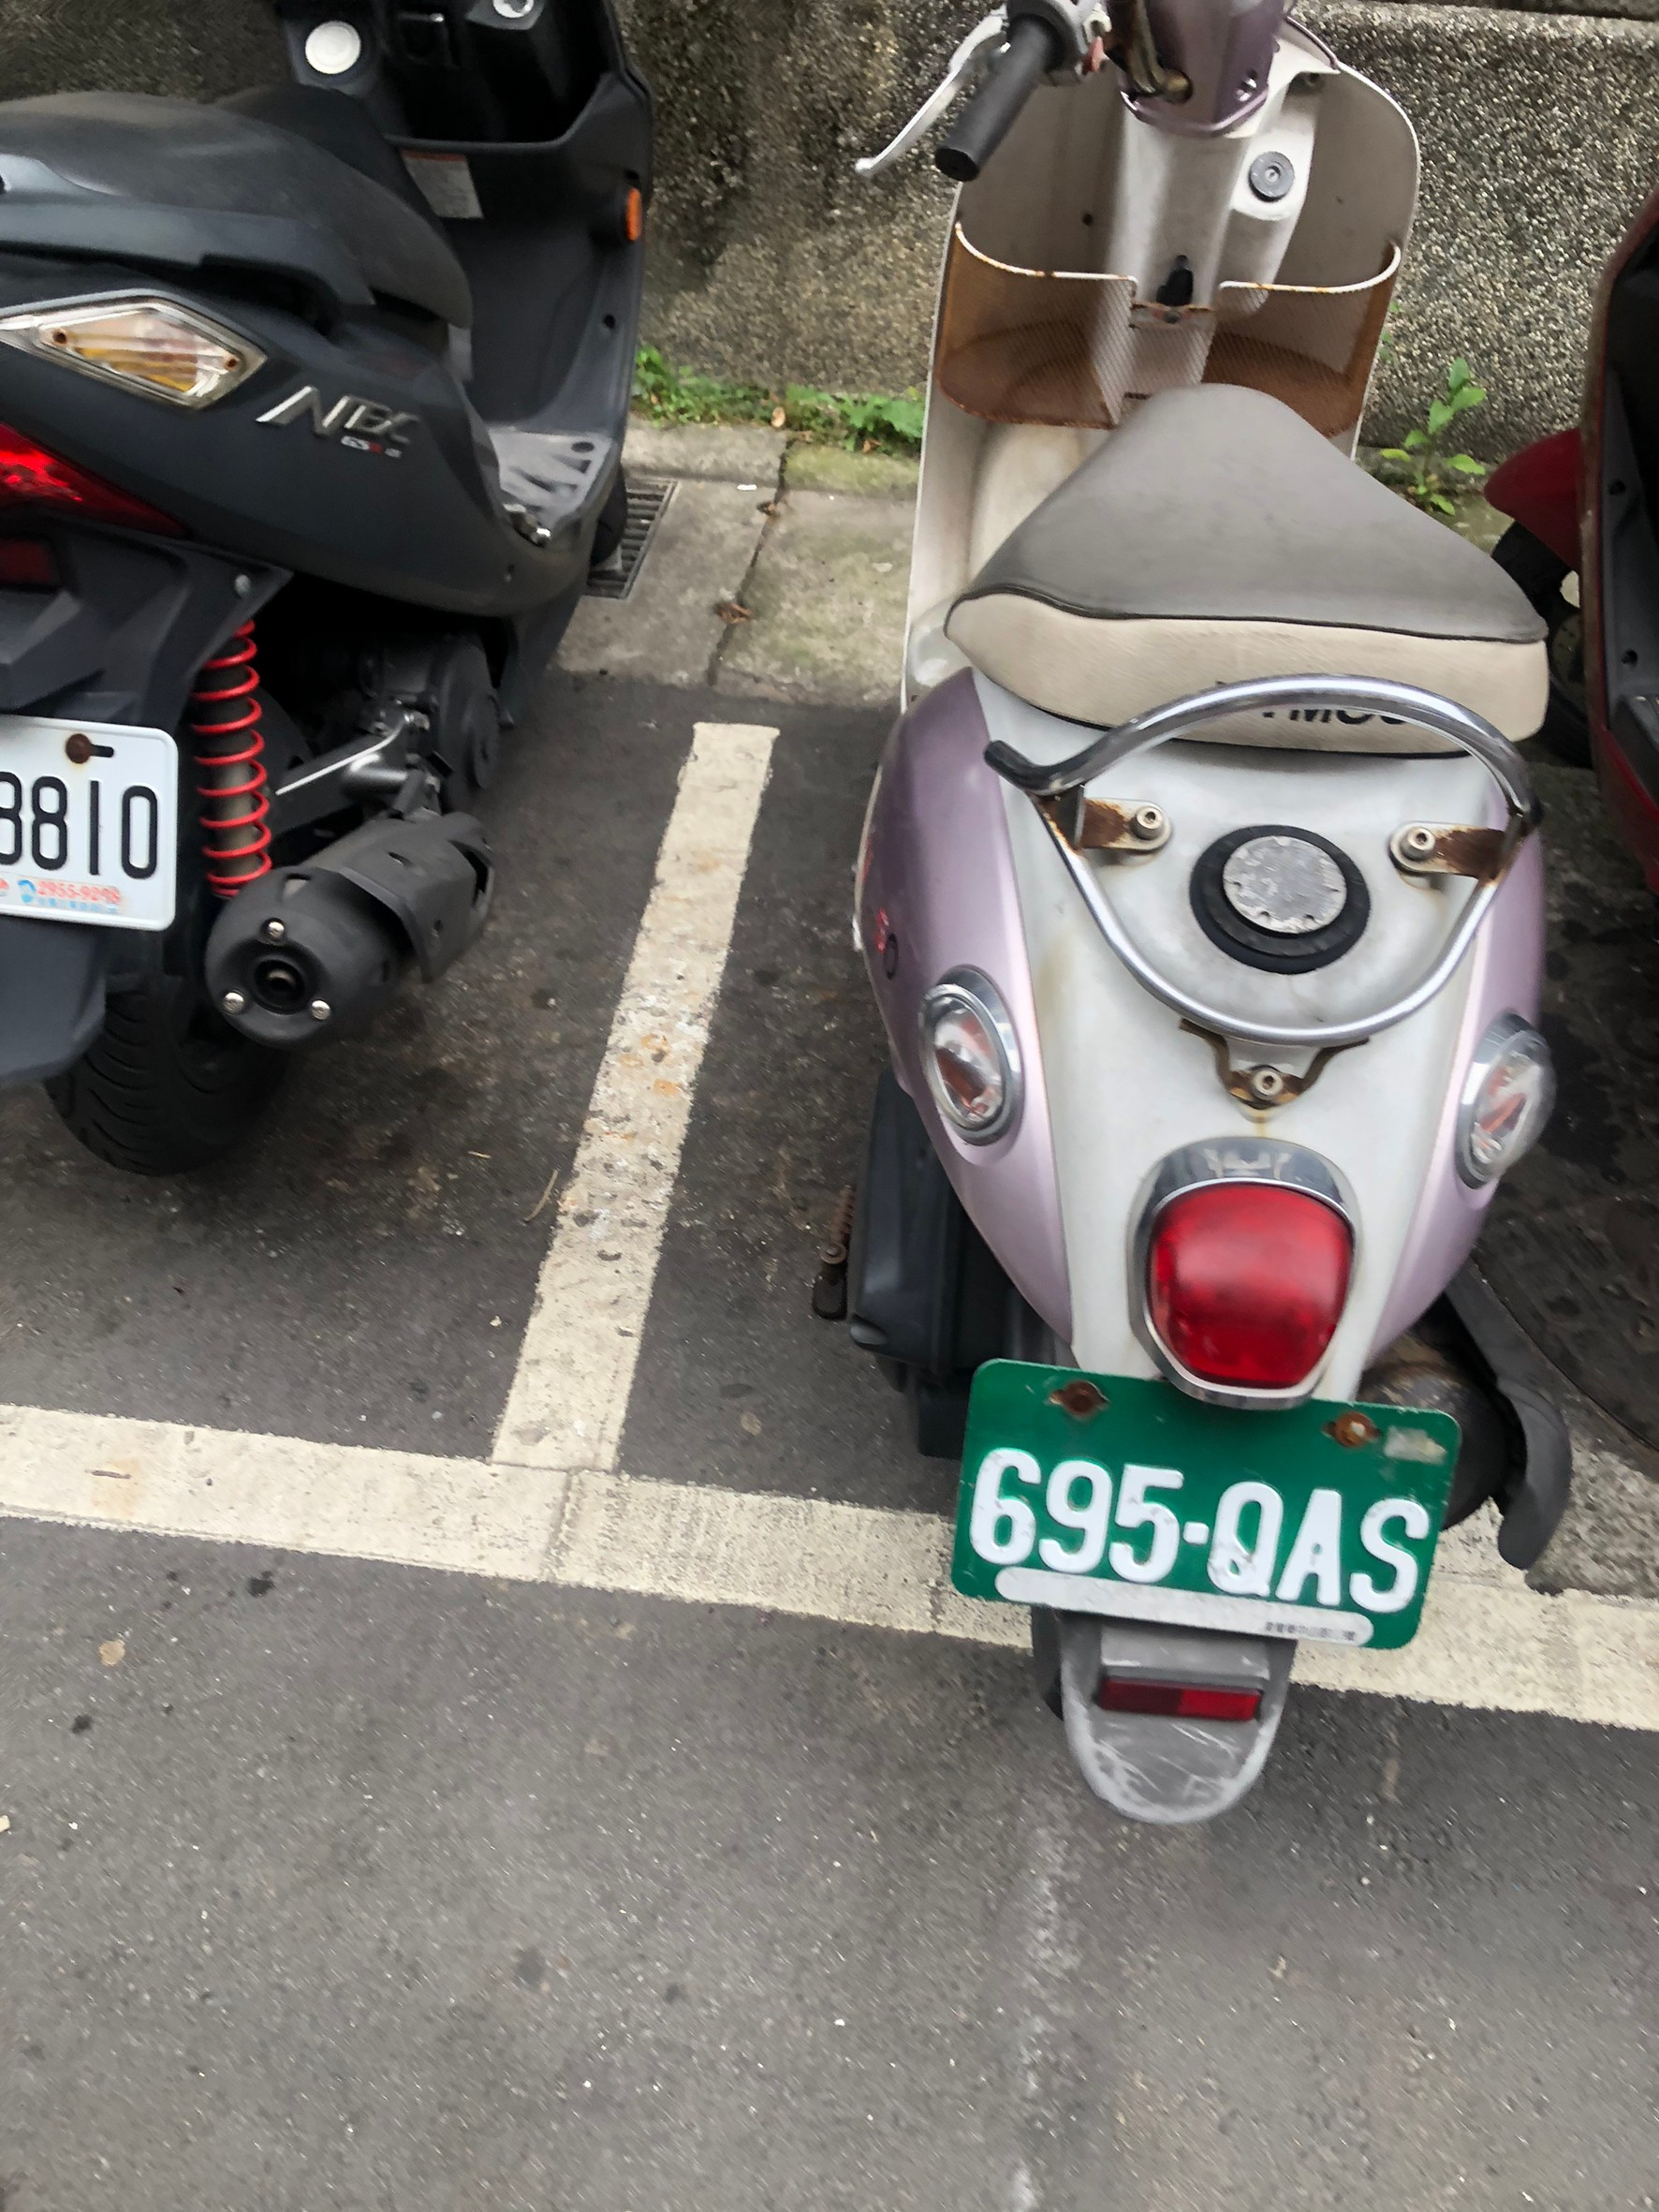LP: (941, 1353, 1455, 1645), (2, 718, 173, 924)
